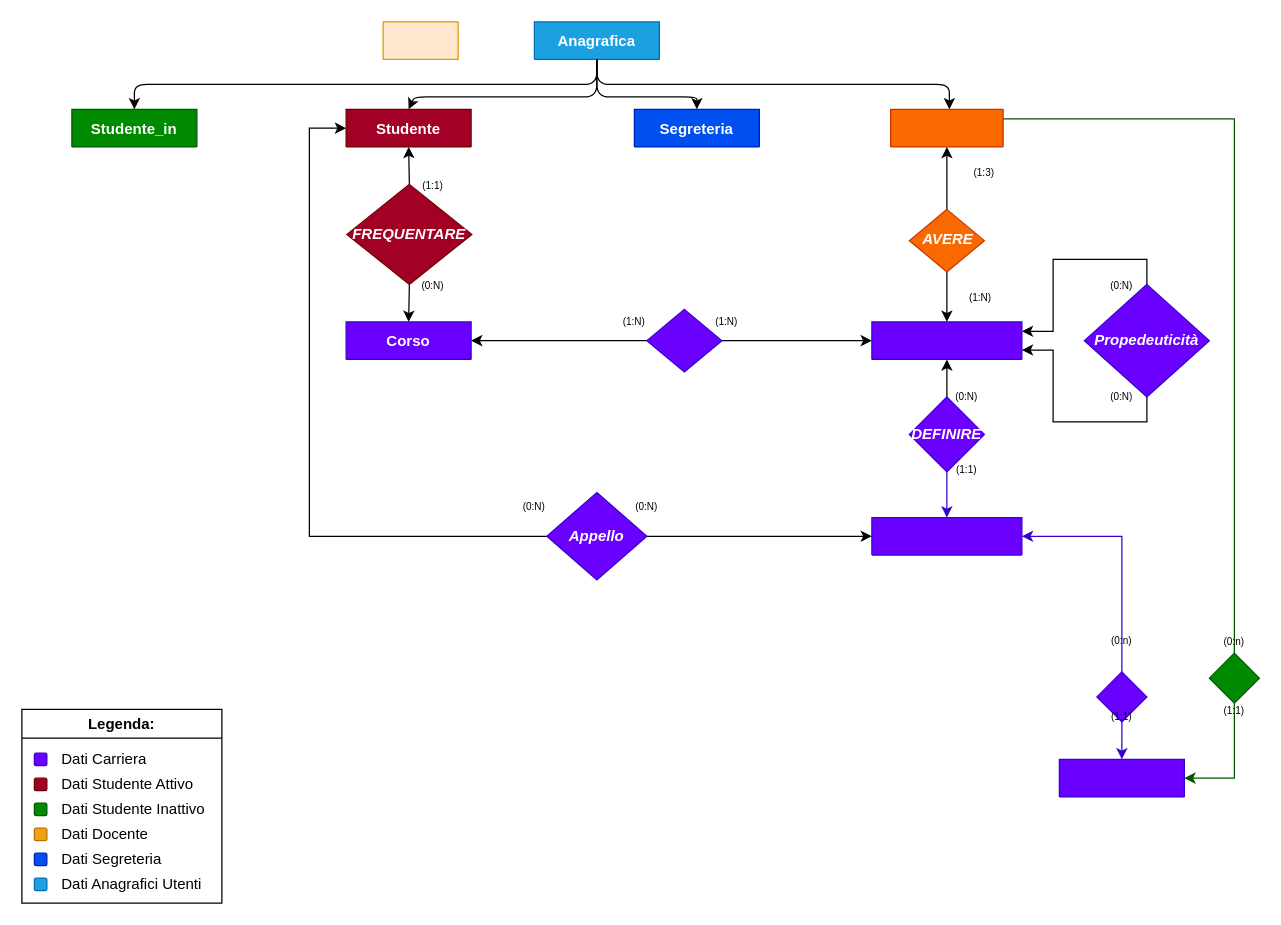
Some shapes in this 1281 by 925 pixel diagram are drawn without their labels. The centre of each missing label's shape, as x and y in pixels:
"Appello_in" belongs at (1121,777).
"Calenderizzazioni" belongs at (946,535).
"Docente" belongs at (946,127).
"FORMARE" belongs at (684,340).
"Gerarchia" belongs at (420,40).
"Insegnamenti" belongs at (946,340).
